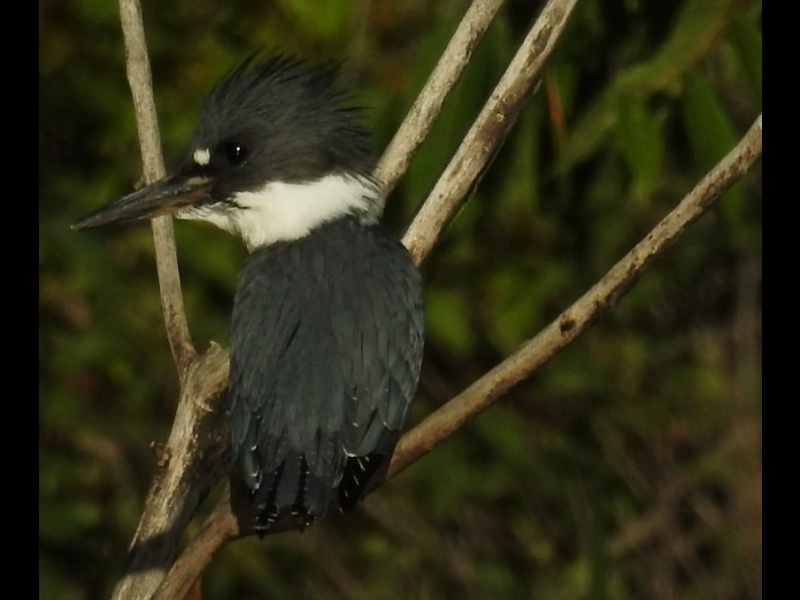kingfisher: (68, 46, 426, 537)
